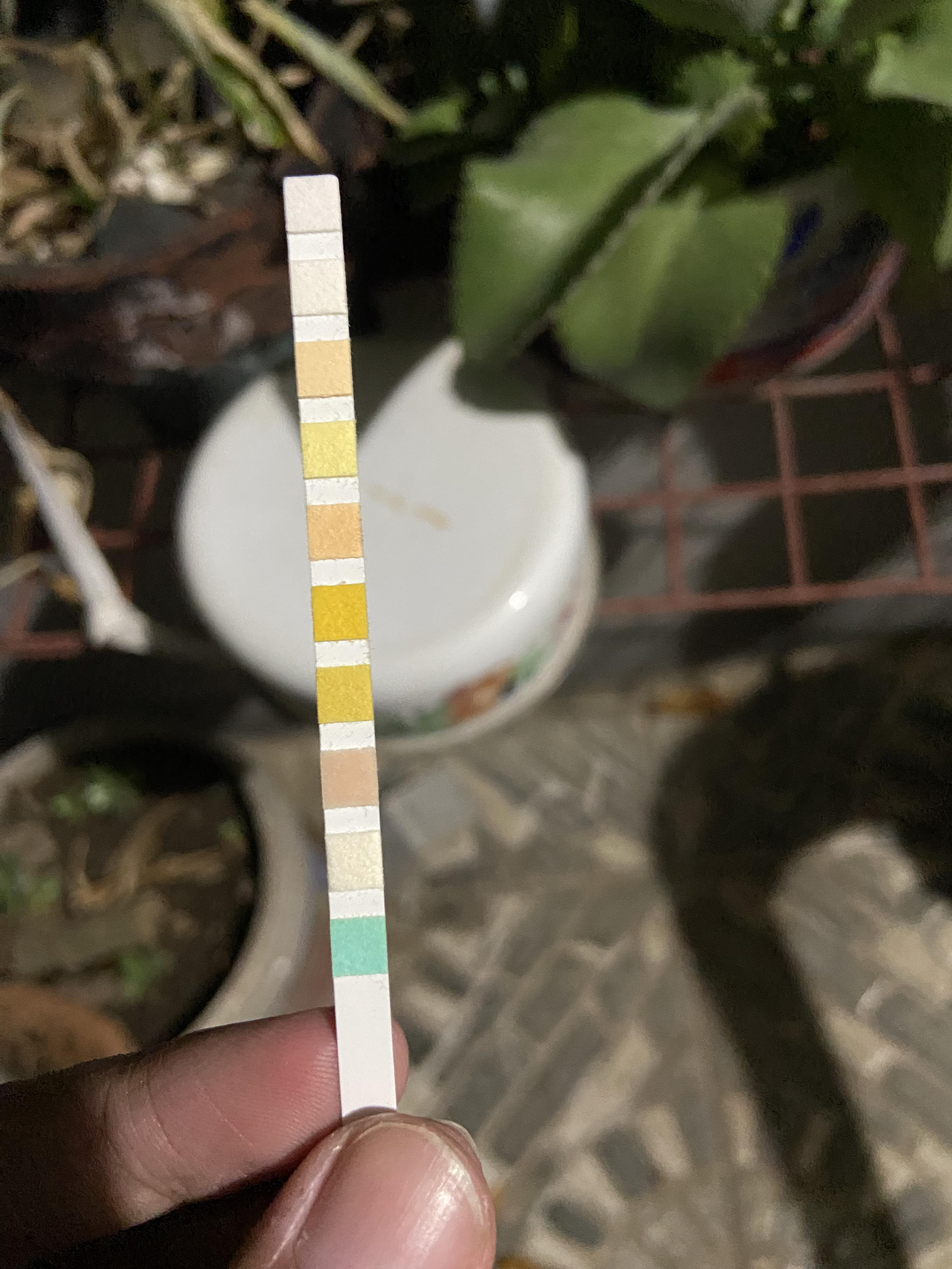Bilirubin: (330, 836, 381, 889)
Blood: (317, 584, 365, 638)
Glucose: (334, 921, 387, 972)
Ketone: (326, 752, 373, 804)
Leukocytes: (288, 176, 336, 230)
Nitrite: (293, 263, 346, 314)
Protein: (307, 425, 355, 476)
SpGravity: (320, 666, 371, 721)
Urobilinogen: (300, 343, 347, 396)
pH: (311, 507, 360, 557)
strip: (283, 175, 397, 1110)
